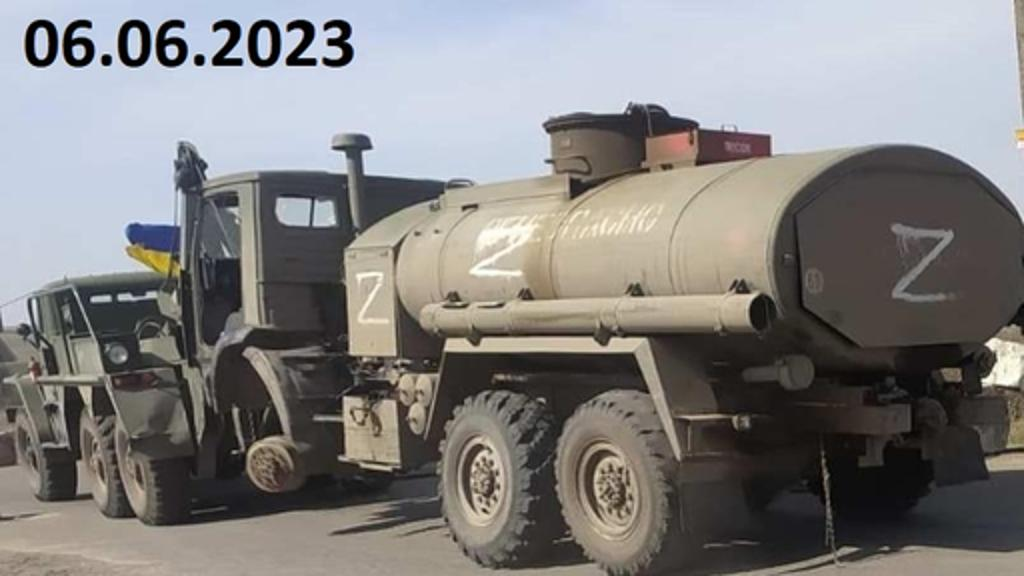TRUCK: (178, 96, 1022, 572)
